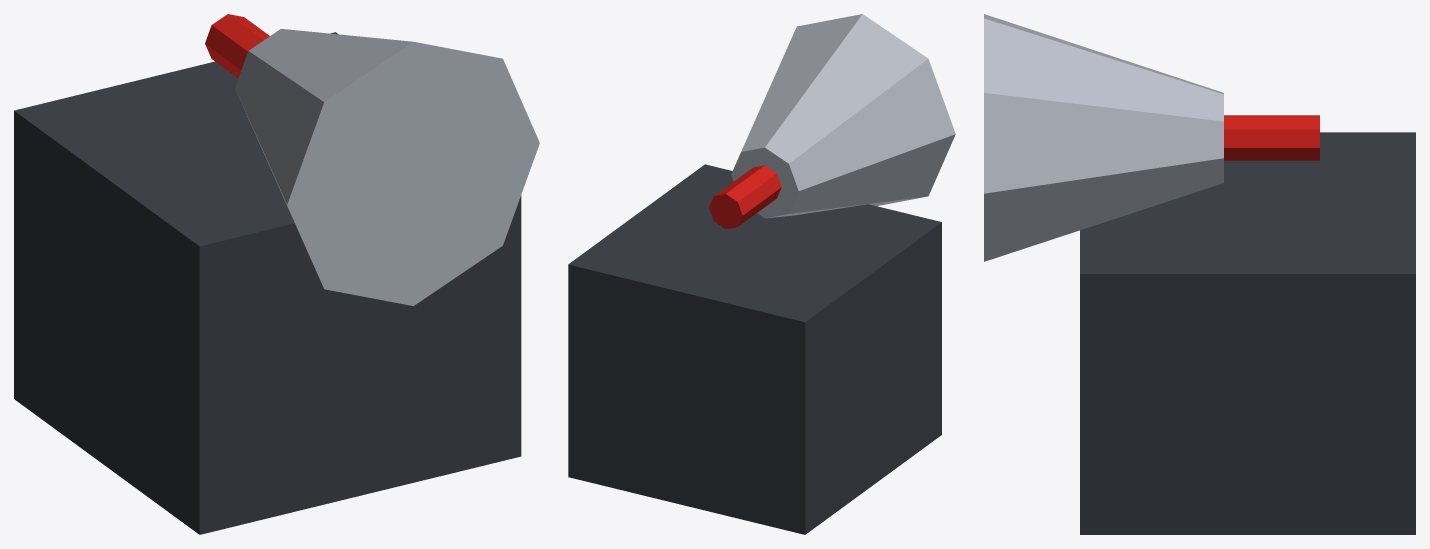
File: fog_horn.glb
3 renders of one model, left to right at view 1: azimuth 30°, elevation 25°; view 2: azimuth 150°, elevation 25°; view 3: azimuth 270°, elevation 25°, orthographic. The views are drawn at different scales.
Visible parts, largest first — view 1: fog_horn; view 2: fog_horn; view 3: fog_horn.
Part boxes in pixels (x1,y1,x2,y2): fog_horn: (14,14,539,534); fog_horn: (568,14,955,534); fog_horn: (984,14,1415,534).
Bounding box in the file's own units: 1.4 × 2.05 × 1.8.
